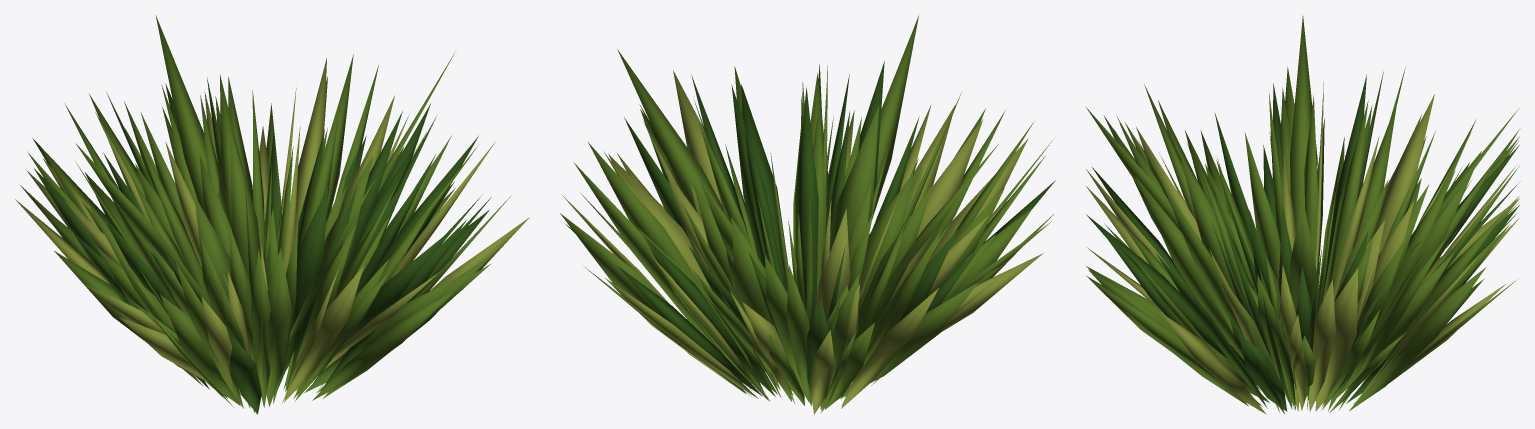
File: MV_Grass_Border_Tuft.fbx
3 renders of one model, left to right at view 1: azimuth 30°, elevation 25°; view 2: azimuth 150°, elevation 25°; view 3: azimuth 270°, elevation 25°, orthographic.
Parts seen in each view (by area): view 1: LOD0_Mesh, LOD1_Mesh, LOD2_Mesh; view 2: LOD2_Mesh, LOD1_Mesh, LOD0_Mesh; view 3: LOD0_Mesh, LOD2_Mesh, LOD1_Mesh.
Part boxes in pixels (x1,y1,x2,y2): LOD0_Mesh: [20, 58, 529, 413]; LOD1_Mesh: [26, 54, 491, 414]; LOD2_Mesh: [15, 15, 511, 404]; LOD2_Mesh: [560, 14, 1028, 409]; LOD1_Mesh: [565, 61, 1055, 414]; LOD0_Mesh: [561, 74, 1054, 412]; LOD0_Mesh: [1086, 67, 1519, 414]; LOD2_Mesh: [1085, 16, 1518, 413]; LOD1_Mesh: [1086, 72, 1520, 412].
Size of the model in its own units: 0.44 by 0.32 by 0.44.
